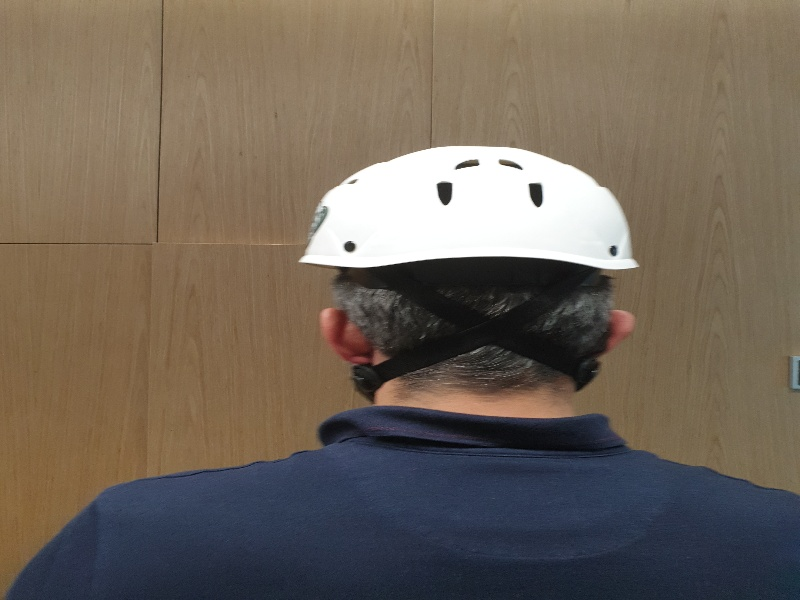Baret: (298, 145, 641, 275)
